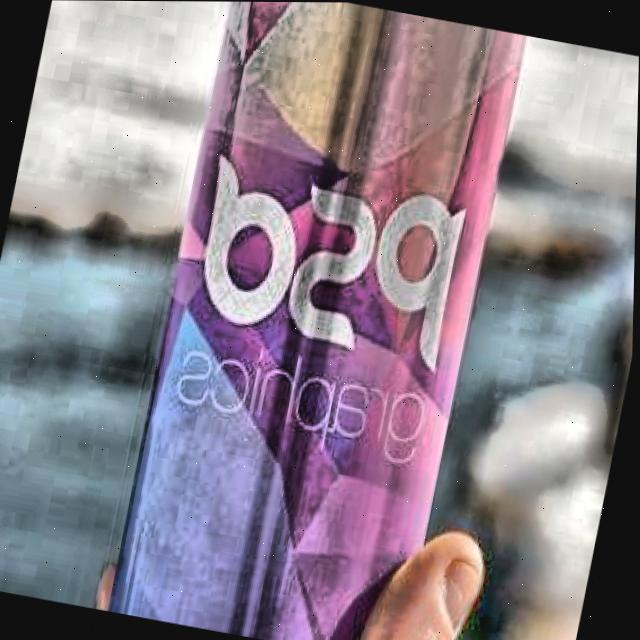metal: (88, 1, 549, 640)
